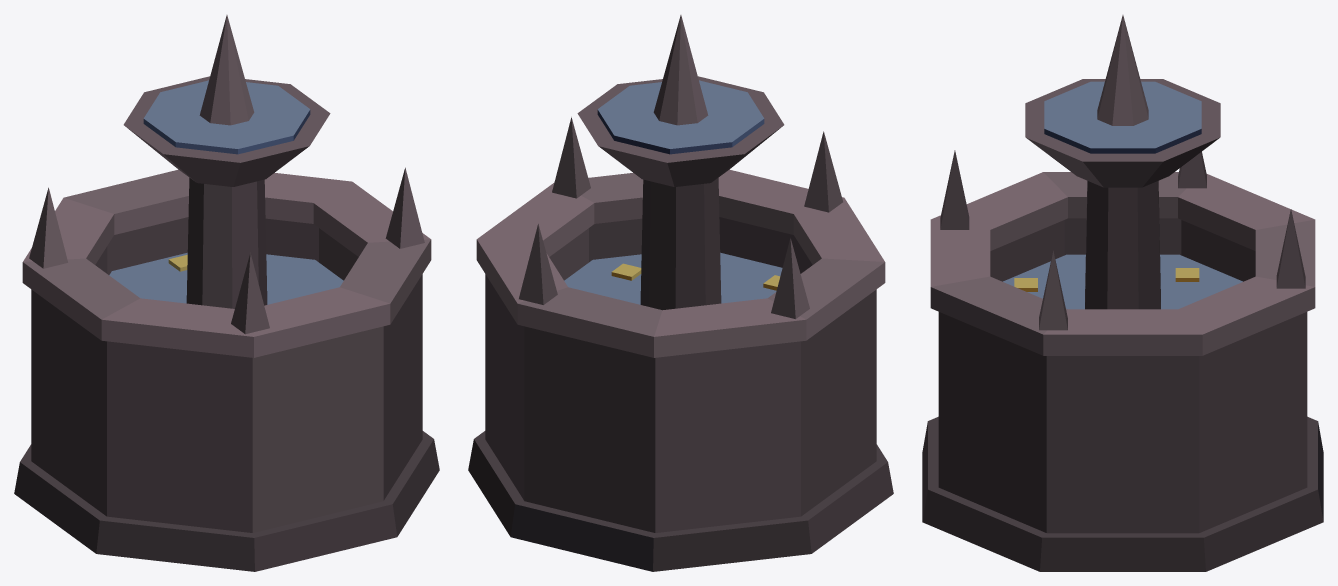
File: brunnen_a_bereit.glb
The picture shows the model from 3 angles, left to right: view 1: azimuth 30°, elevation 25°; view 2: azimuth 150°, elevation 25°; view 3: azimuth 270°, elevation 25°; orthographic projection.
Parts seen in each view (by area): view 1: brunnen; view 2: brunnen; view 3: brunnen.
Boxes of the visible parts, bbox=[...] form: brunnen: bbox=[14, 15, 439, 571]; brunnen: bbox=[468, 15, 893, 571]; brunnen: bbox=[922, 15, 1323, 571].
Bounding box in the file's own units: 1.37 × 1.78 × 1.37.
